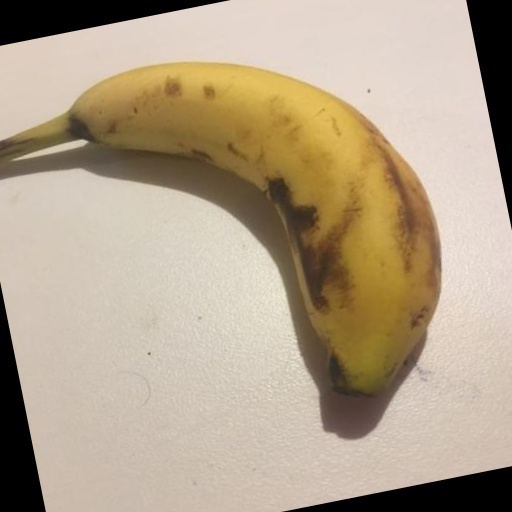fruit: (371, 101, 512, 433)
